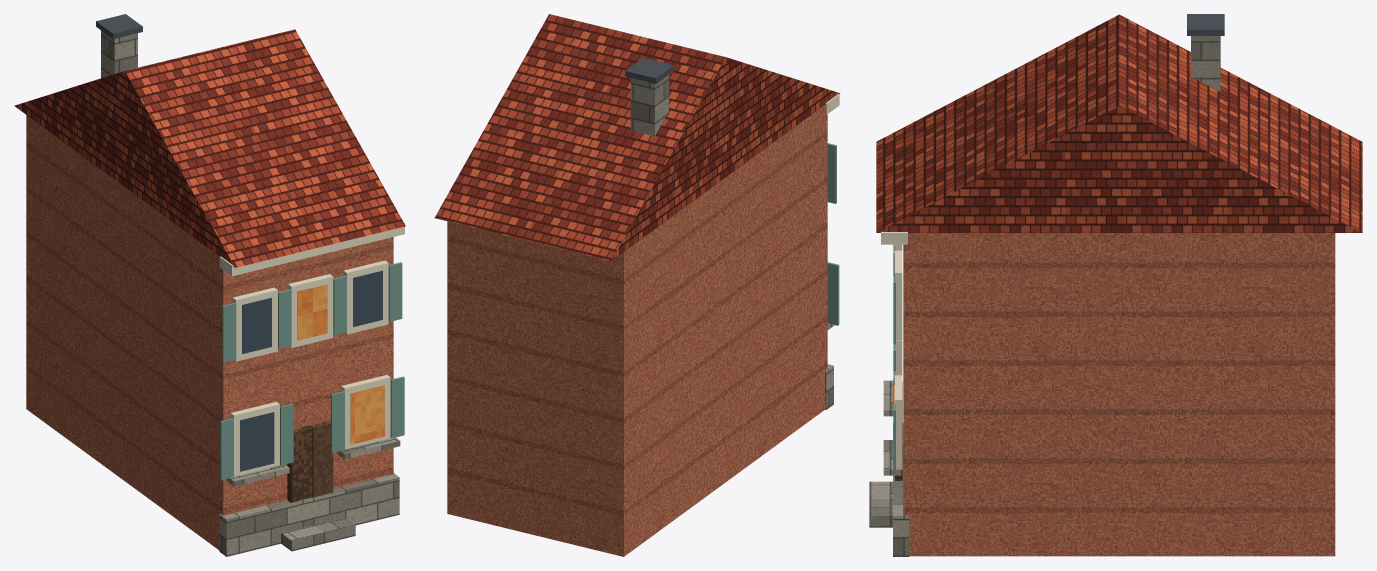
Rendered from ENV_C_Facade_4.fbx.
The picture shows the model from 3 angles, left to right: view 1: azimuth 30°, elevation 25°; view 2: azimuth 150°, elevation 25°; view 3: azimuth 270°, elevation 25°; orthographic projection. The views are drawn at different scales.
Parts seen in each view (by area): view 1: ENV_C_Facade_4; view 2: ENV_C_Facade_4; view 3: ENV_C_Facade_4.
Boxes of the visible parts, bbox=[...] form: ENV_C_Facade_4: bbox=[14, 14, 405, 556]; ENV_C_Facade_4: bbox=[434, 14, 840, 556]; ENV_C_Facade_4: bbox=[869, 14, 1362, 556].
Size of the model in its own units: 430 by 942 by 913.
Materials: 9 (5 with a texture image).
